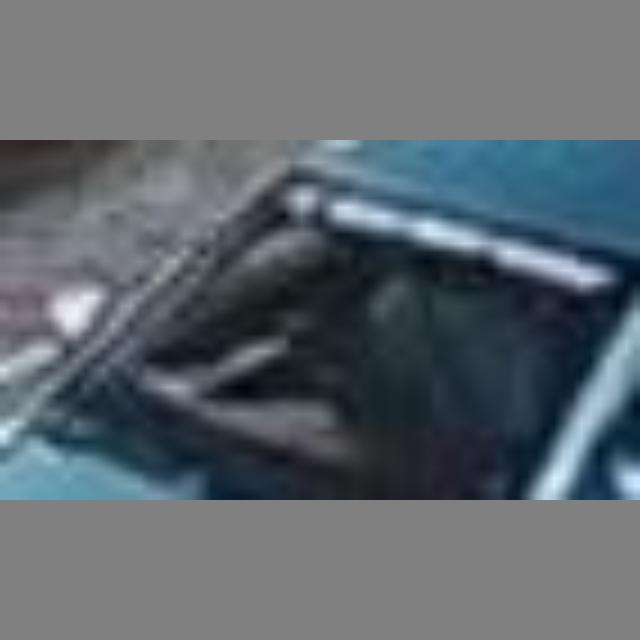pakai: (306, 257, 523, 428)
